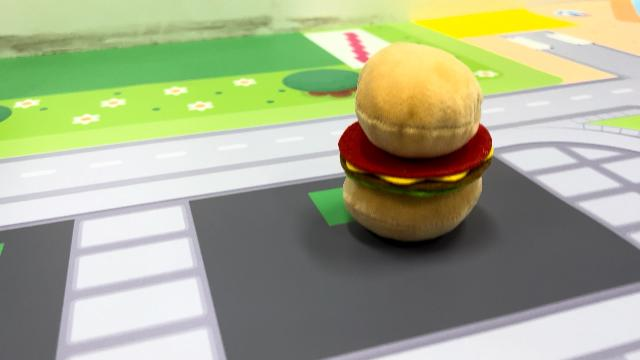burger: (332, 39, 498, 245)
